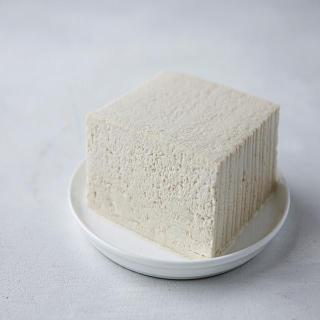Tahu: (70, 72, 308, 259)
